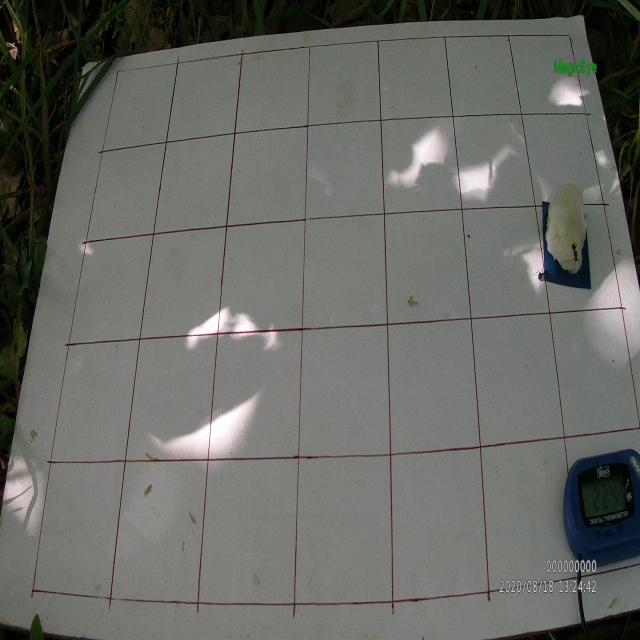Ant: (532, 266, 550, 289), (567, 237, 579, 264), (542, 210, 551, 233)
